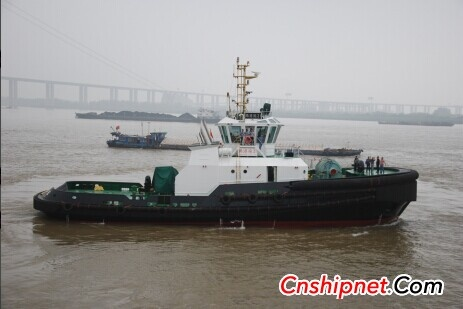otherboat: (28, 52, 422, 234), (96, 116, 366, 155)
